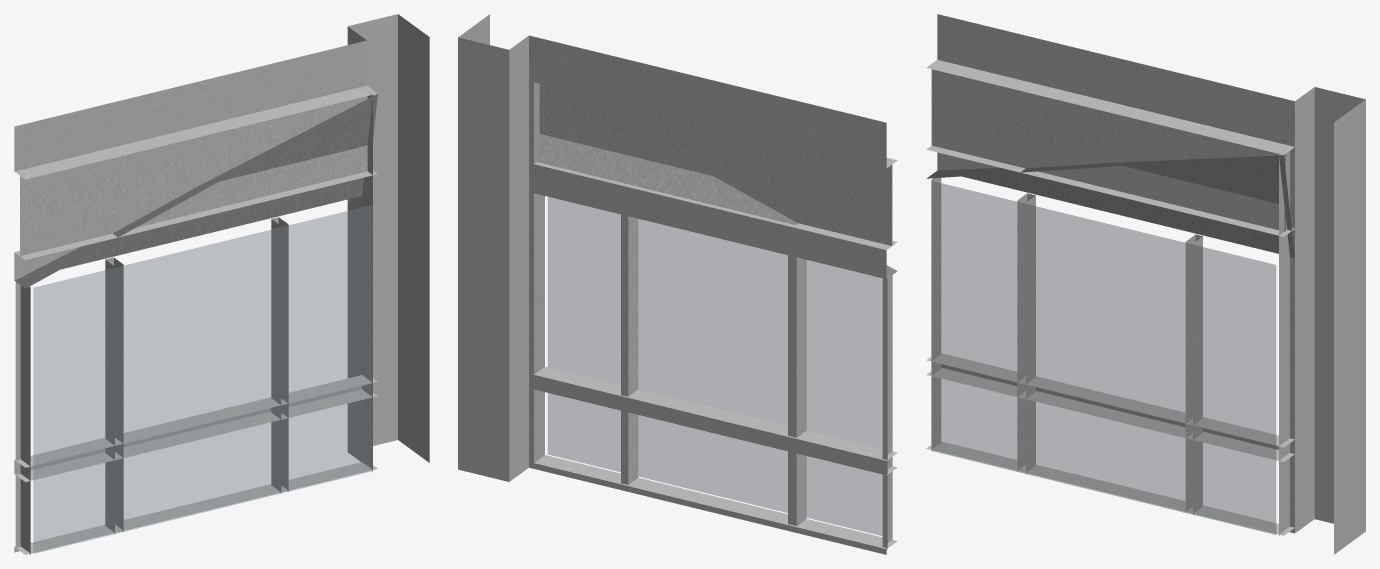
The model's file is Office_Wall_Outside.fbx.
The picture shows the model from 3 angles, left to right: view 1: azimuth 30°, elevation 25°; view 2: azimuth 150°, elevation 25°; view 3: azimuth 330°, elevation 25°; orthographic projection.
Parts seen in each view (by area): view 1: Office_Wall_Outside, Office_Wall_OutsideGlass; view 2: Office_Wall_Outside, Office_Wall_OutsideGlass; view 3: Office_Wall_Outside, Office_Wall_OutsideGlass.
Boxes of the visible parts, <box> form: Office_Wall_Outside: <box>14,14,429,554</box>; Office_Wall_OutsideGlass: <box>33,205,372,553</box>; Office_Wall_Outside: <box>458,14,897,554</box>; Office_Wall_OutsideGlass: <box>548,197,882,535</box>; Office_Wall_Outside: <box>926,14,1365,554</box>; Office_Wall_OutsideGlass: <box>932,181,1275,534</box>.
Bounding box in the file's own units: 400 × 404 × 54.11.
